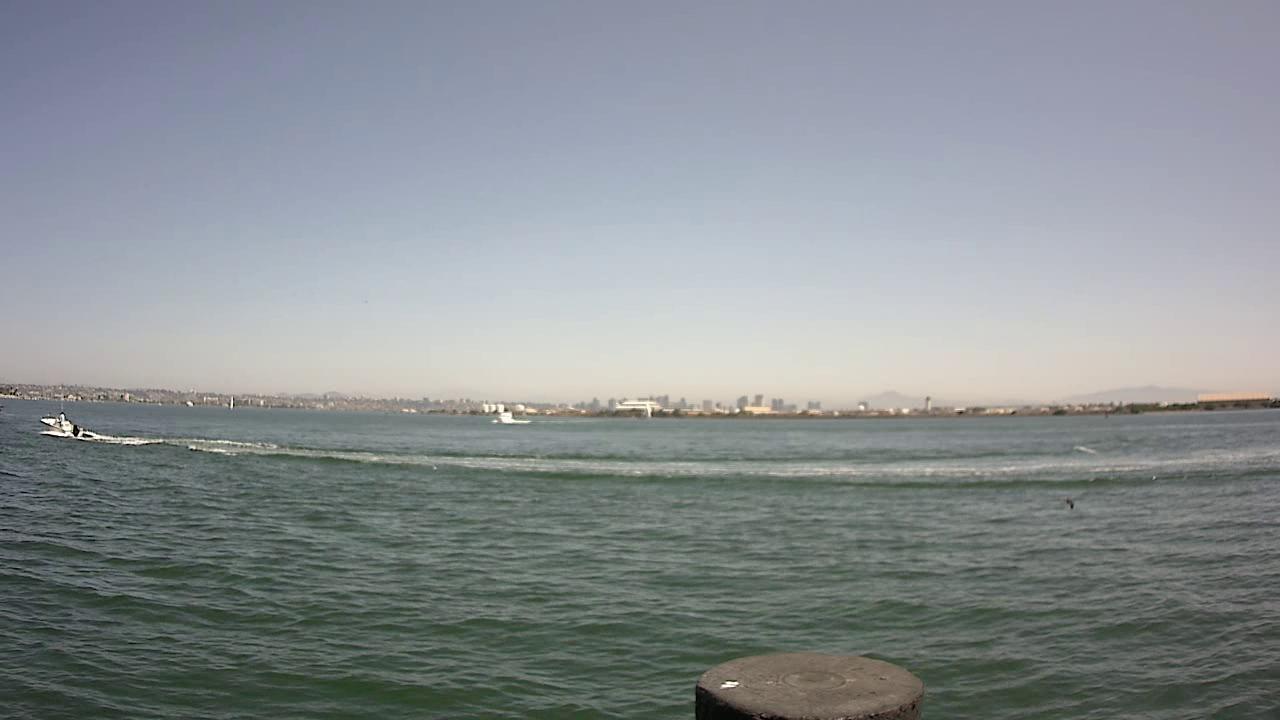target: (36, 408, 88, 444)
